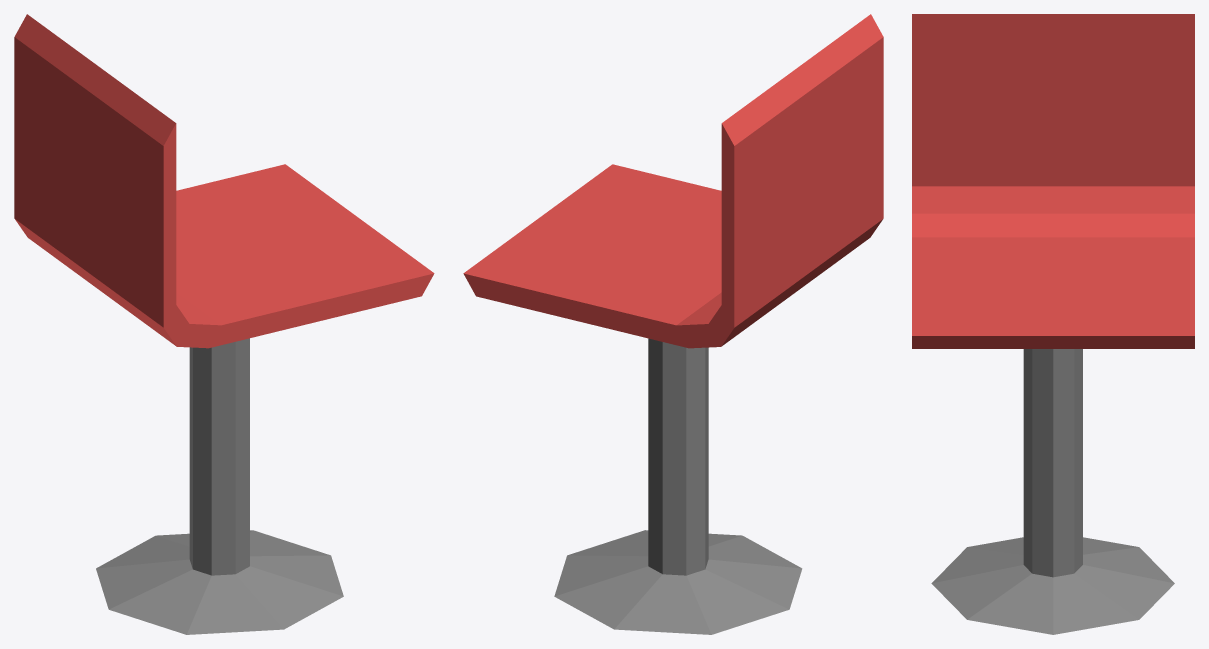
Rendered from Chair.fbx.
3 views of the same model, side by side, from view 1: azimuth 30°, elevation 25°; view 2: azimuth 150°, elevation 25°; view 3: azimuth 270°, elevation 25° (orthographic). The views are drawn at different scales.
Parts seen in each view (by area): view 1: Stuhl; view 2: Stuhl; view 3: Stuhl.
Boxes of the visible parts, box(x1,y1,x2,y2) form: Stuhl: box(14, 14, 434, 634); Stuhl: box(463, 14, 883, 634); Stuhl: box(912, 14, 1194, 634).
Size of the model in its own units: 339 by 650 by 324.
